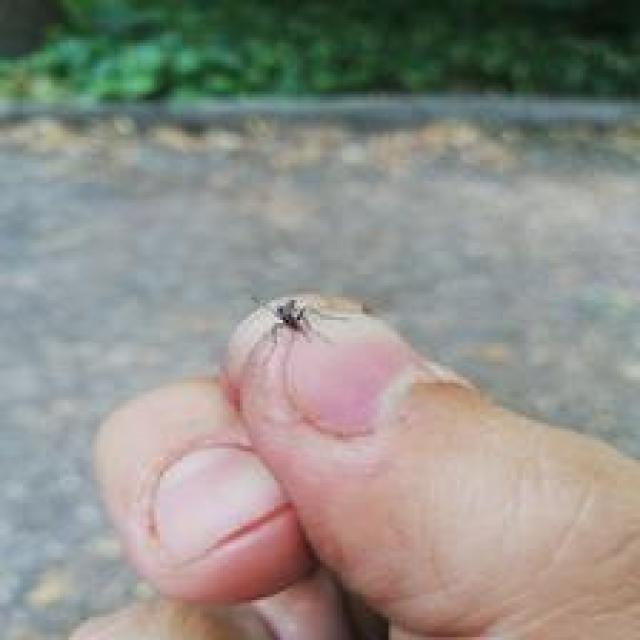Aedes albopictus: (249, 292, 360, 354)
